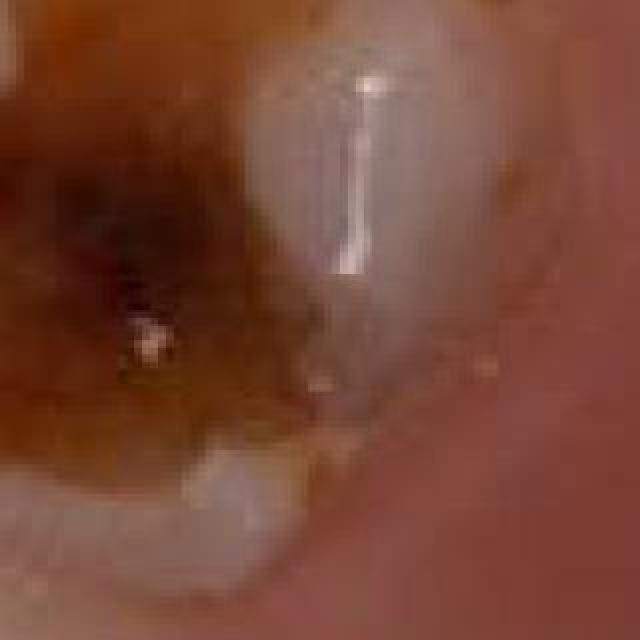cavities: (0, 0, 508, 572)
